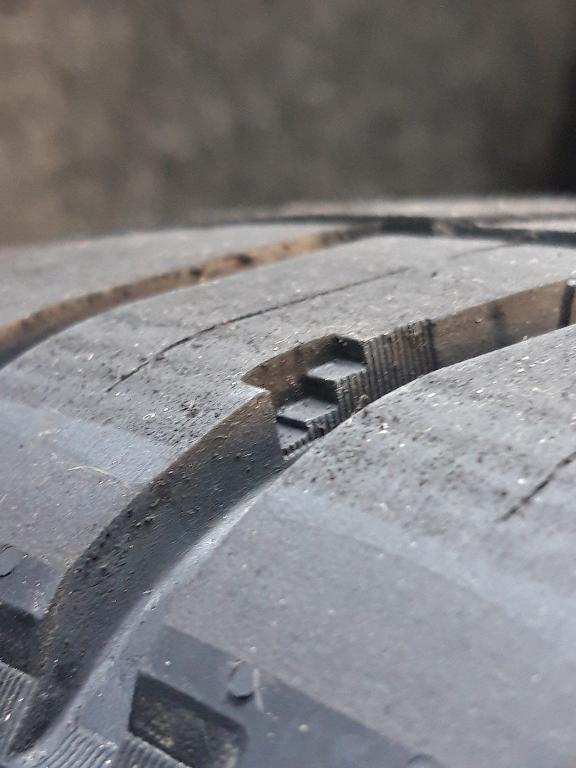temoin:75: (237, 320, 396, 467)
